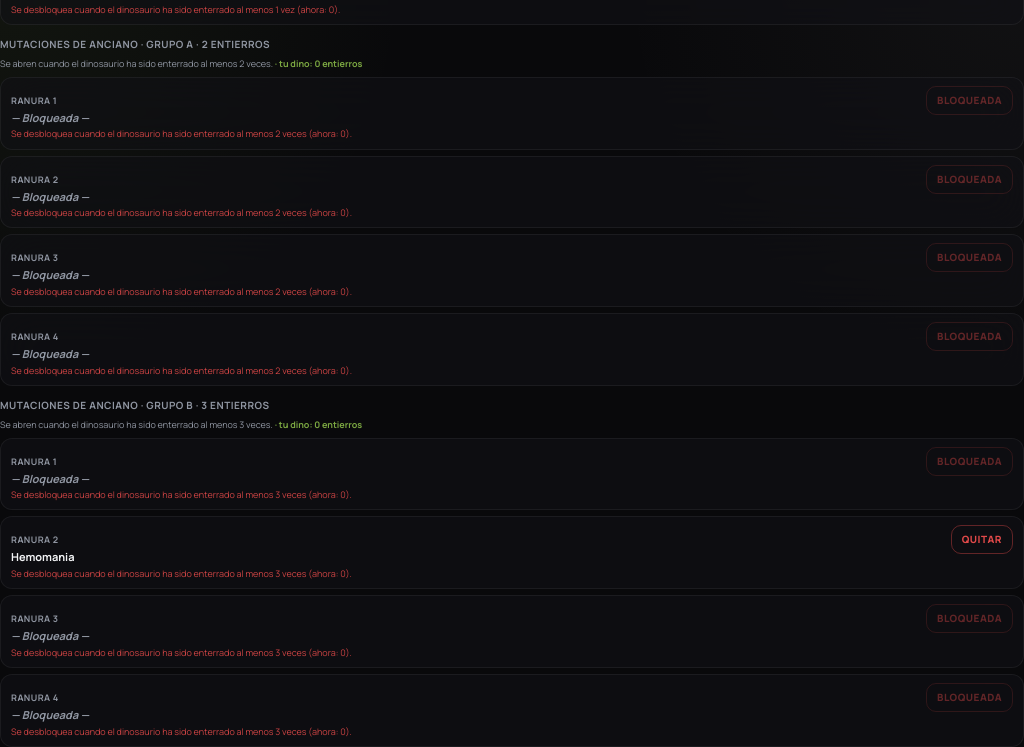
Test: nothing is ever trapped in a closed inherited slot › emptying it asks first, and a double press backs out instead
(page scrolled)
Click the button "Quitar".
click(982, 540)  # box top-left (951, 525), bottom-right (1013, 554)
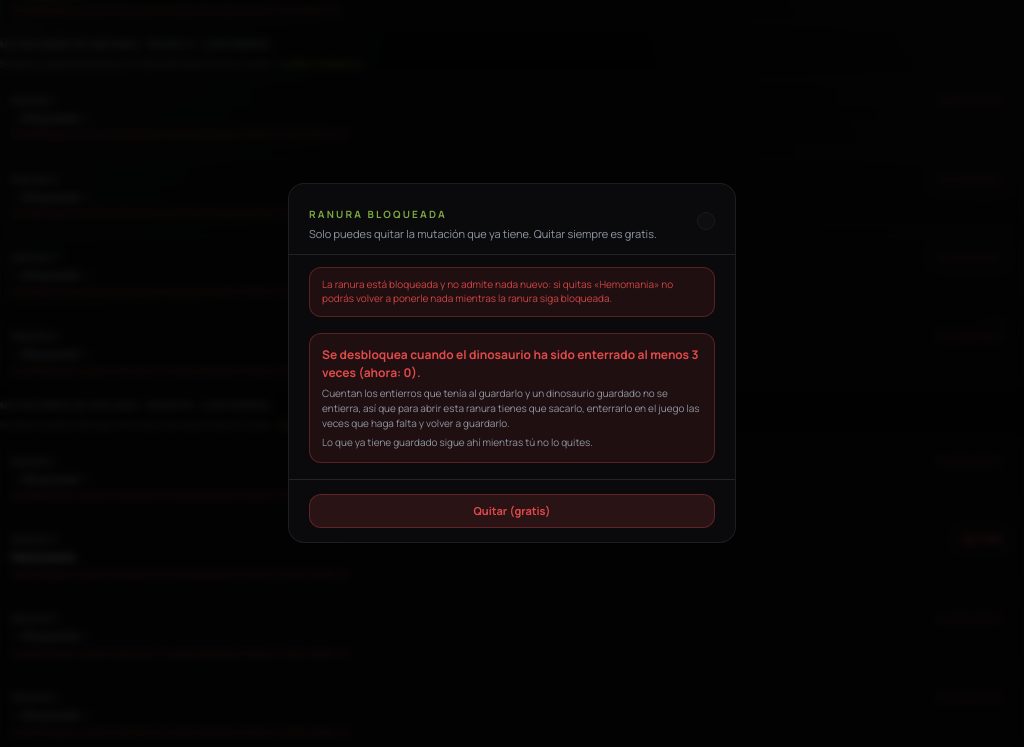
Click the button with test id "mutation-picker-clear".
click(512, 511)  # box top-left (309, 494), bottom-right (715, 528)
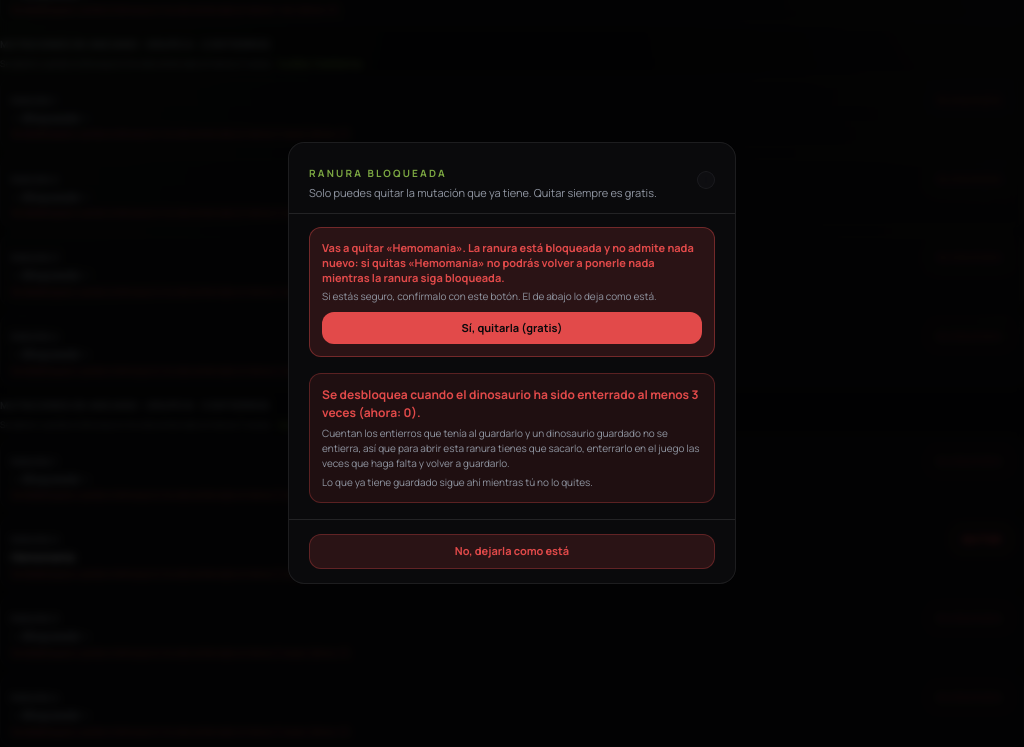
Expected: the element with test id "mutation-clear-warning" is shown, top-left (309, 227), bottom-right (715, 358)
Click the button with test id "mutation-picker-clear".
click(512, 552)  # box top-left (309, 534), bottom-right (715, 569)
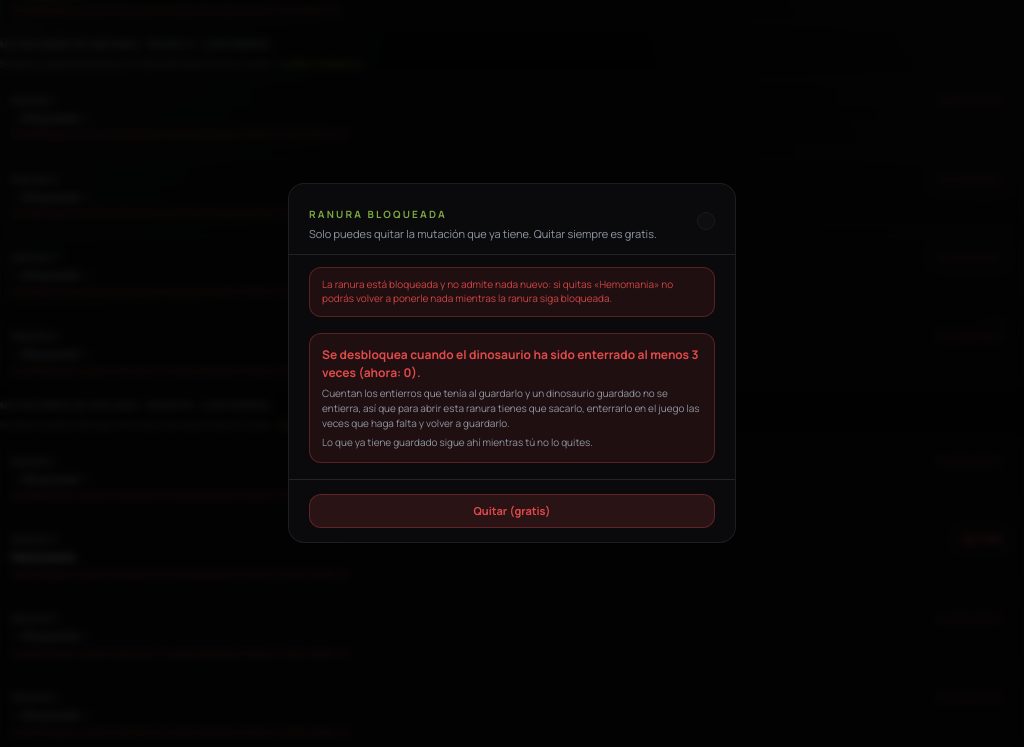
Expected: the element with test id "mutation-clear-warning" is gone
